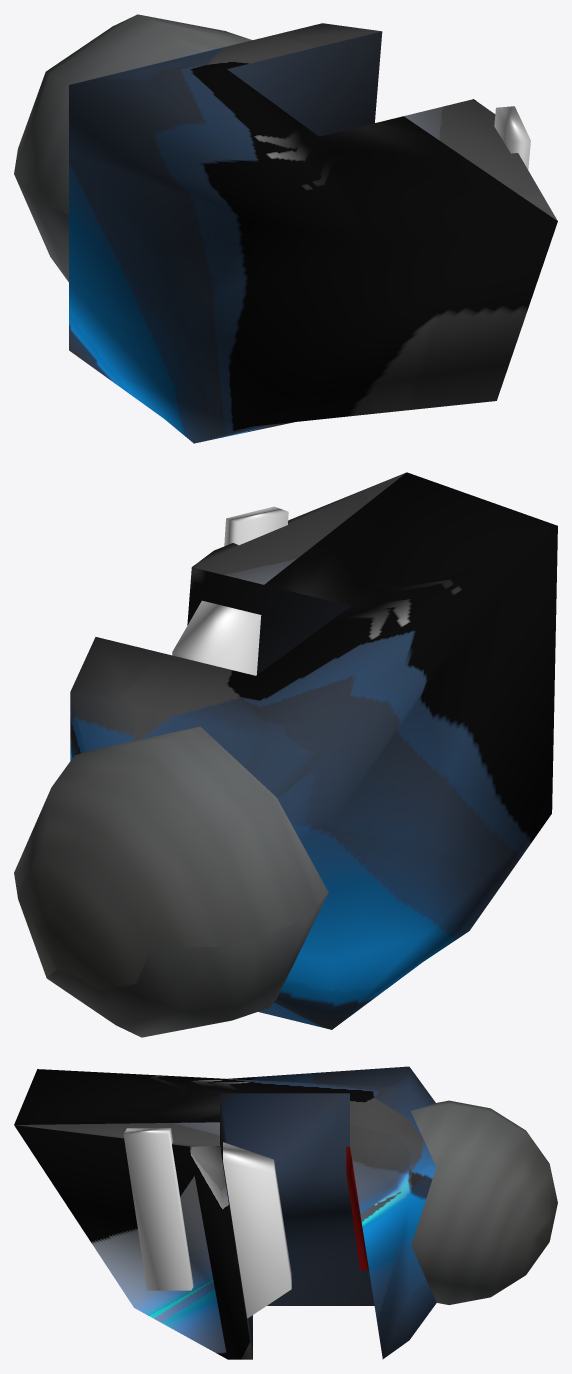
The model's file is FlowRobot3.fbx.
3 views of the same model, one above another, from view 1: azimuth 30°, elevation 25°; view 2: azimuth 150°, elevation 25°; view 3: azimuth 270°, elevation 25° (orthographic). The views are drawn at different scales.
Visible parts, largest first — view 1: Body, Wheel, Eye; view 2: Body, Wheel, Tooth, Eye; view 3: Body, Wheel, Tooth, Eye, Cube.
Part boxes in pixels (x1=…): Body: x1=69, y1=23, x2=557, y2=443; Wheel: x1=14, y1=14, x2=252, y2=281; Eye: x1=494, y1=106, x2=530, y2=169; Body: x1=70, y1=472, x2=557, y2=1029; Wheel: x1=14, y1=726, x2=328, y2=1037; Tooth: x1=172, y1=600, x2=261, y2=675; Eye: x1=224, y1=506, x2=288, y2=546; Body: x1=14, y1=1066, x2=436, y2=1359; Wheel: x1=411, y1=1100, x2=557, y2=1304; Tooth: x1=223, y1=1142, x2=291, y2=1318; Eye: x1=123, y1=1128, x2=193, y2=1290; Cube: x1=346, y1=1146, x2=368, y2=1270.
Size of the model in its own units: 0.0202 by 0.0213 by 0.0463.
5 materials, 5 textured.
